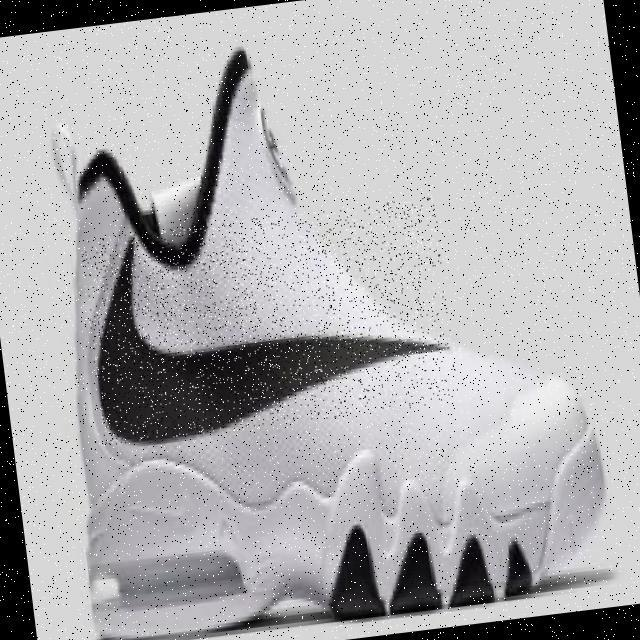Nike: (78, 195, 459, 446)
